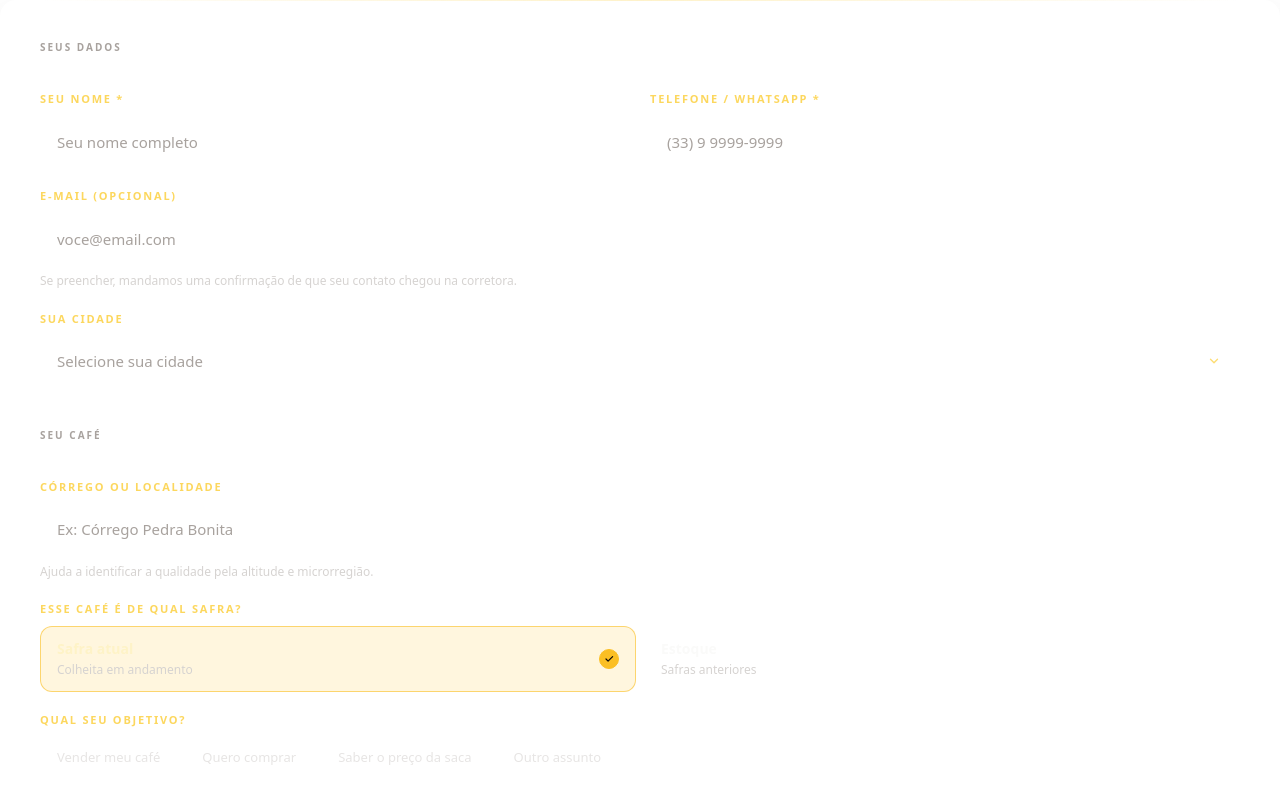
Test: LeadContactForm — fluxo crítico de lead › não envia POST quando nome está vazio (validação react-hook-form)
Type "33999990000" into the field labelled "Telefone / WhatsApp *" at (945, 142), box x1=650 y1=116 x2=1240 y2=168
(page scrolled)
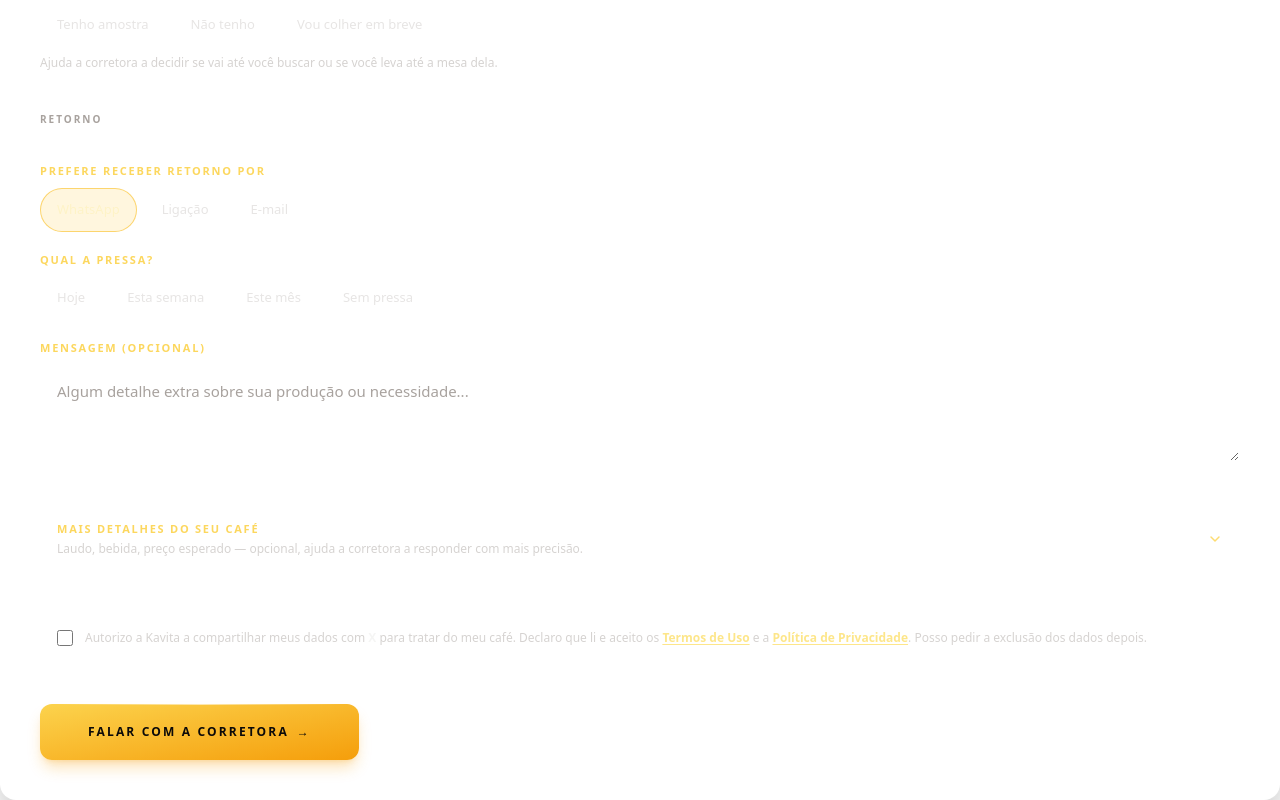
Click the checkbox labelled "Autorizo a Kavita" at (65, 638), box x1=57 y1=630 x2=73 y2=646
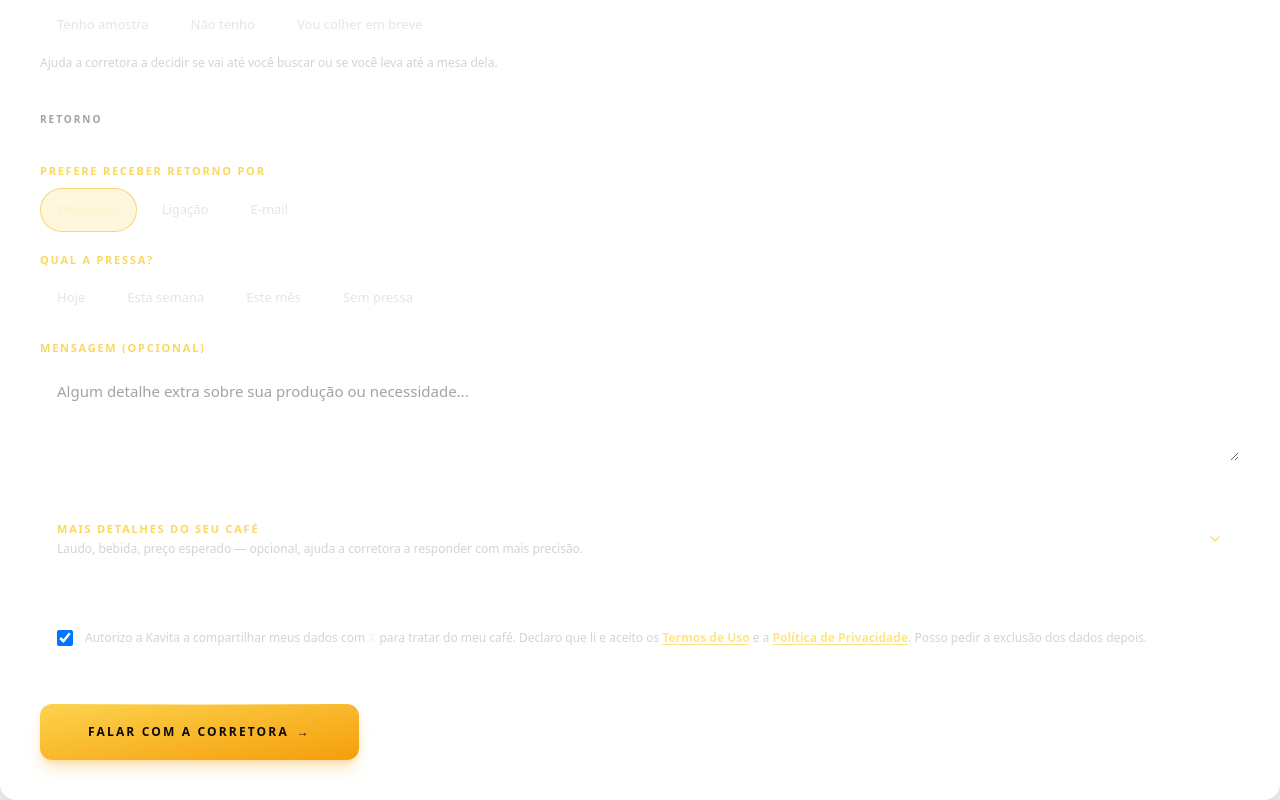
Click the button "Falar com a corretora →" at (200, 732), box x1=40 y1=704 x2=359 y2=760
(page scrolled)
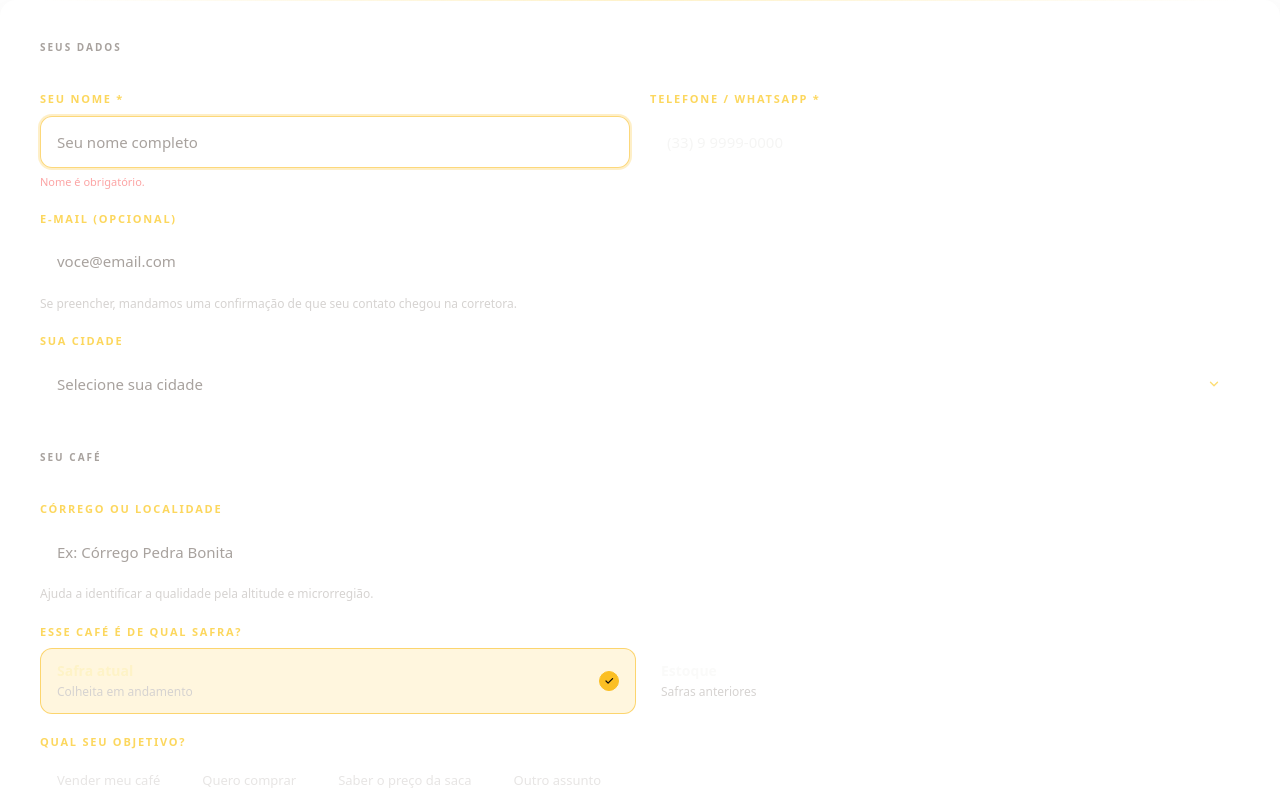
Expected: the text "Nome é obrigatório." is shown, x1=40 y1=174 x2=145 y2=189
